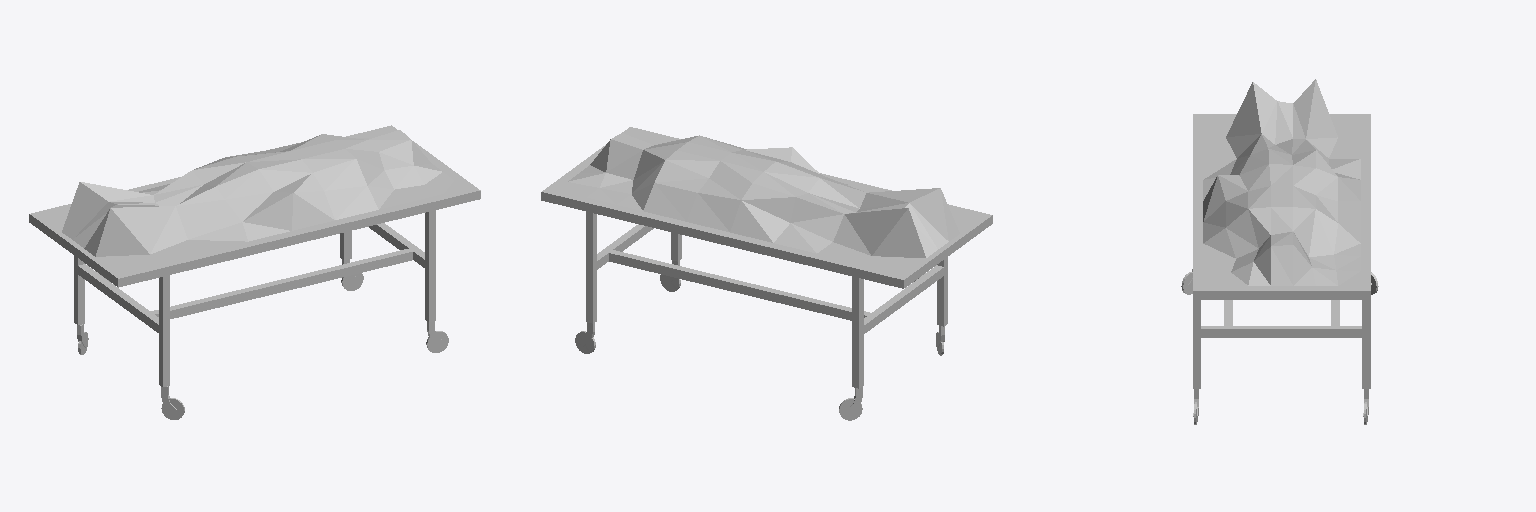
The model's file is table.obj.
The picture shows the model from 3 angles: view 1: azimuth 30°, elevation 25°; view 2: azimuth 150°, elevation 25°; view 3: azimuth 270°, elevation 25°; orthographic projection.
Parts seen in each view (by area): view 1: table; view 2: table; view 3: table.
Boxes of the visible parts, box(x1,y1,x2,y2) form: table: box(29, 125, 480, 419); table: box(541, 127, 992, 420); table: box(1181, 79, 1378, 424).
Bounding box in the file's own units: 195 × 103 × 91.89.